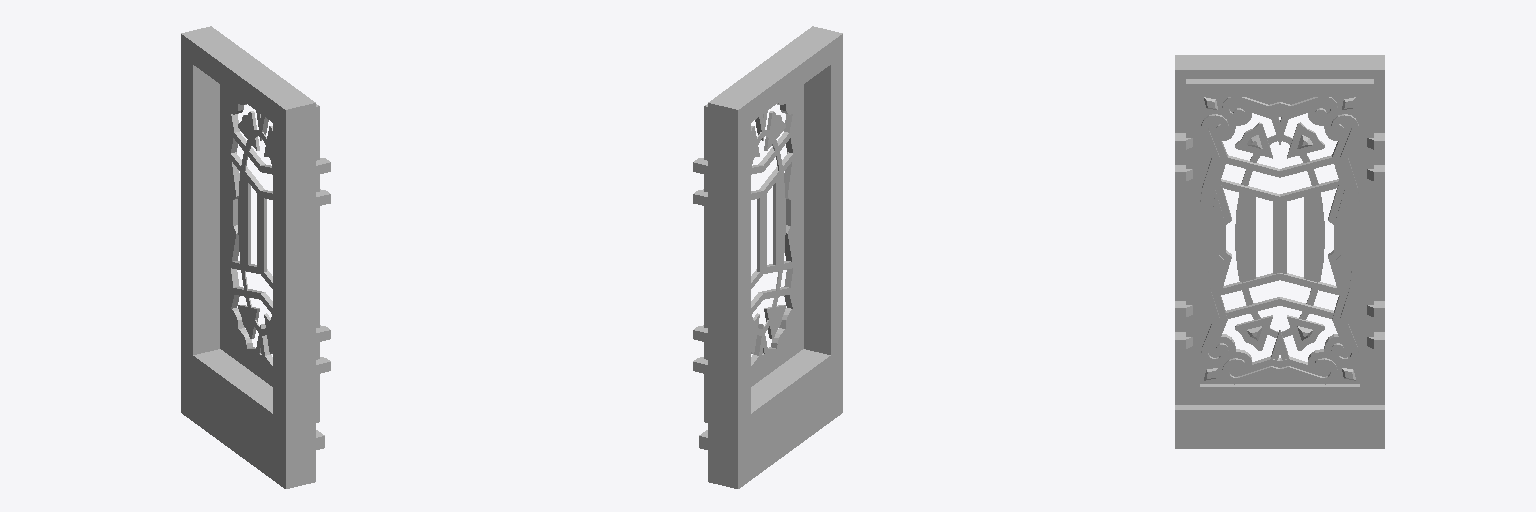
Rendered from WallDecorated.obj.
3 views of the same model, side by side, from view 1: azimuth 30°, elevation 25°; view 2: azimuth 150°, elevation 25°; view 3: azimuth 270°, elevation 25° (orthographic).
Visible parts, largest first — view 1: MainWall; view 2: MainWall; view 3: MainWall.
Part boxes in pixels (x1,y1,x2,y2): MainWall: (181, 26, 330, 488); MainWall: (693, 26, 842, 488); MainWall: (1175, 55, 1384, 448).
Bounding box in the file's own units: 0.625 × 5 × 2.5.